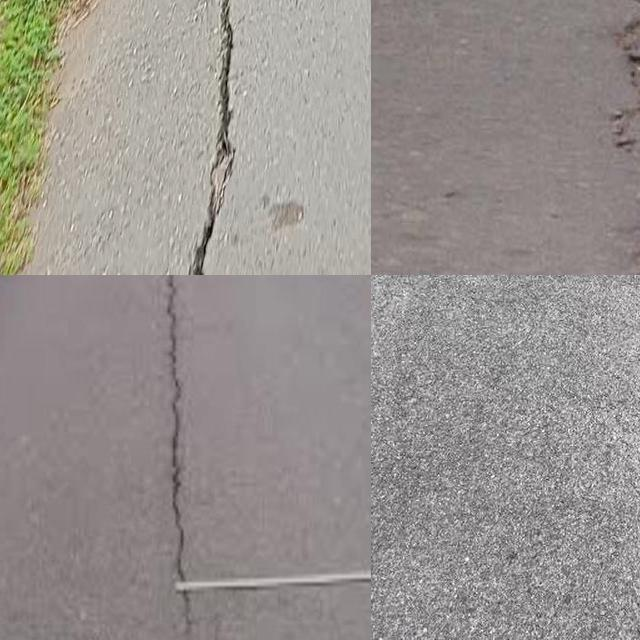Memanjang: (171, 0, 252, 275), (149, 275, 202, 640), (580, 0, 640, 275)
